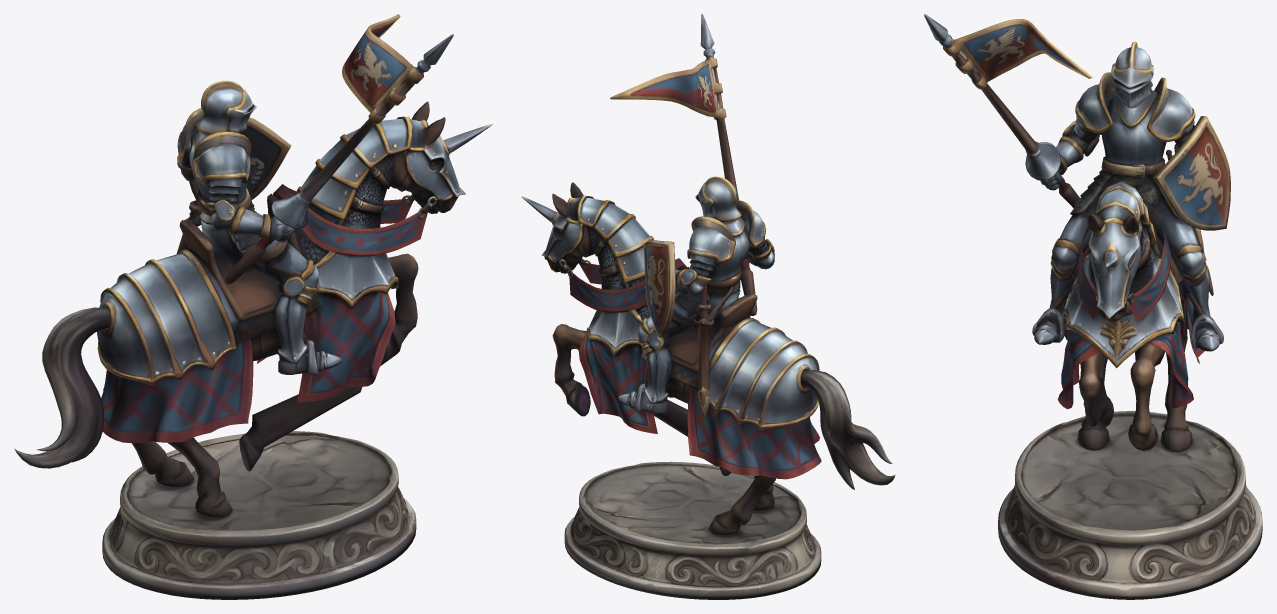
The model's file is 23-knight.glb.
3 views of the same model, side by side, from view 1: azimuth 30°, elevation 25°; view 2: azimuth 150°, elevation 25°; view 3: azimuth 270°, elevation 25° (orthographic). The views are drawn at different scales.
Parts seen in each view (by area): view 1: tripo_node_ce66e395-cd23-4b10-8d0b-c4eab1b48ec6; view 2: tripo_node_ce66e395-cd23-4b10-8d0b-c4eab1b48ec6; view 3: tripo_node_ce66e395-cd23-4b10-8d0b-c4eab1b48ec6.
Part boxes in pixels (x1,y1,x2,y2): tripo_node_ce66e395-cd23-4b10-8d0b-c4eab1b48ec6: [14, 14, 492, 599]; tripo_node_ce66e395-cd23-4b10-8d0b-c4eab1b48ec6: [521, 14, 895, 599]; tripo_node_ce66e395-cd23-4b10-8d0b-c4eab1b48ec6: [924, 14, 1262, 599].
Bounding box in the file's own units: 0.8755 × 0.9995 × 0.5464.
Materials: 1 (1 with a texture image).
